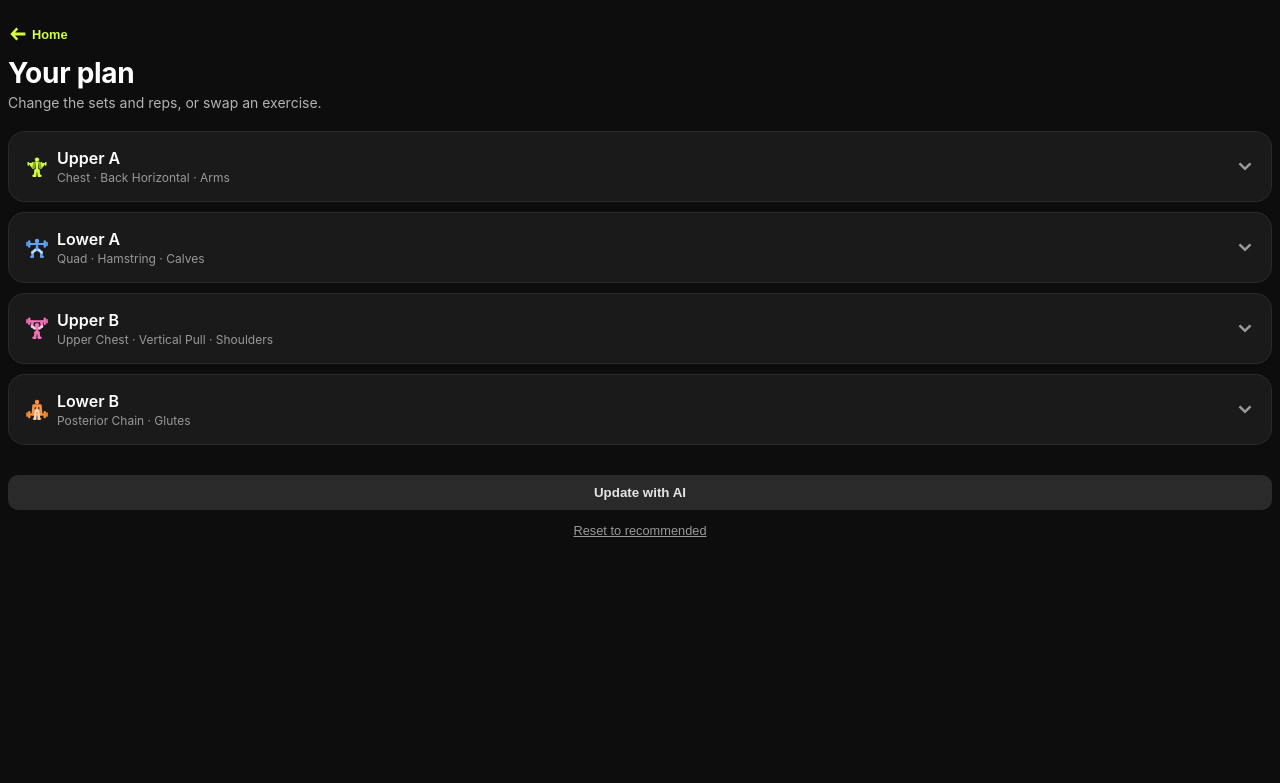
Plan editing › shows the finish-first message for a 409 and re-reads the open workout
The width and height of the screenshot is (1280, 783).
Click the button "Upper A Chest · Back Horizontal · Arms" at (89, 158), box left=9, top=132, right=1271, bottom=201
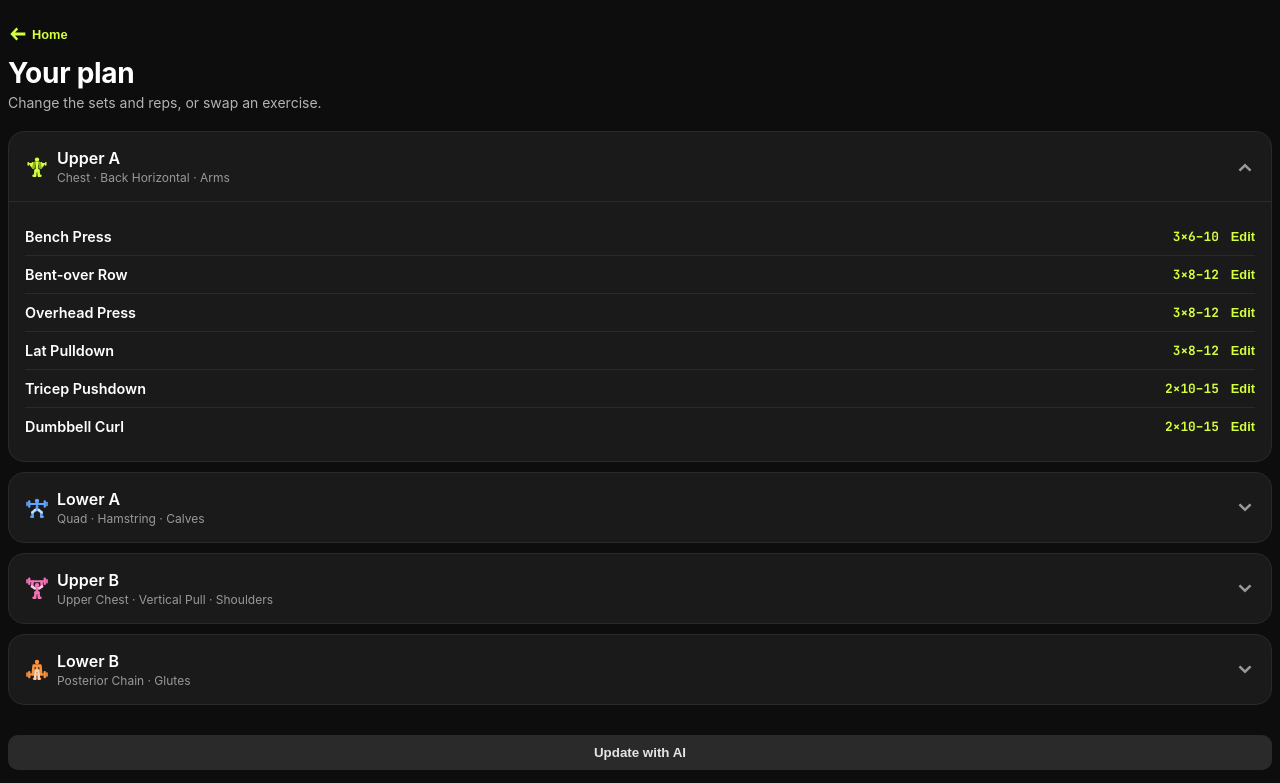
Click the button "Edit" in the row of "Bench Press" at (1243, 236), box left=1231, top=229, right=1255, bottom=244
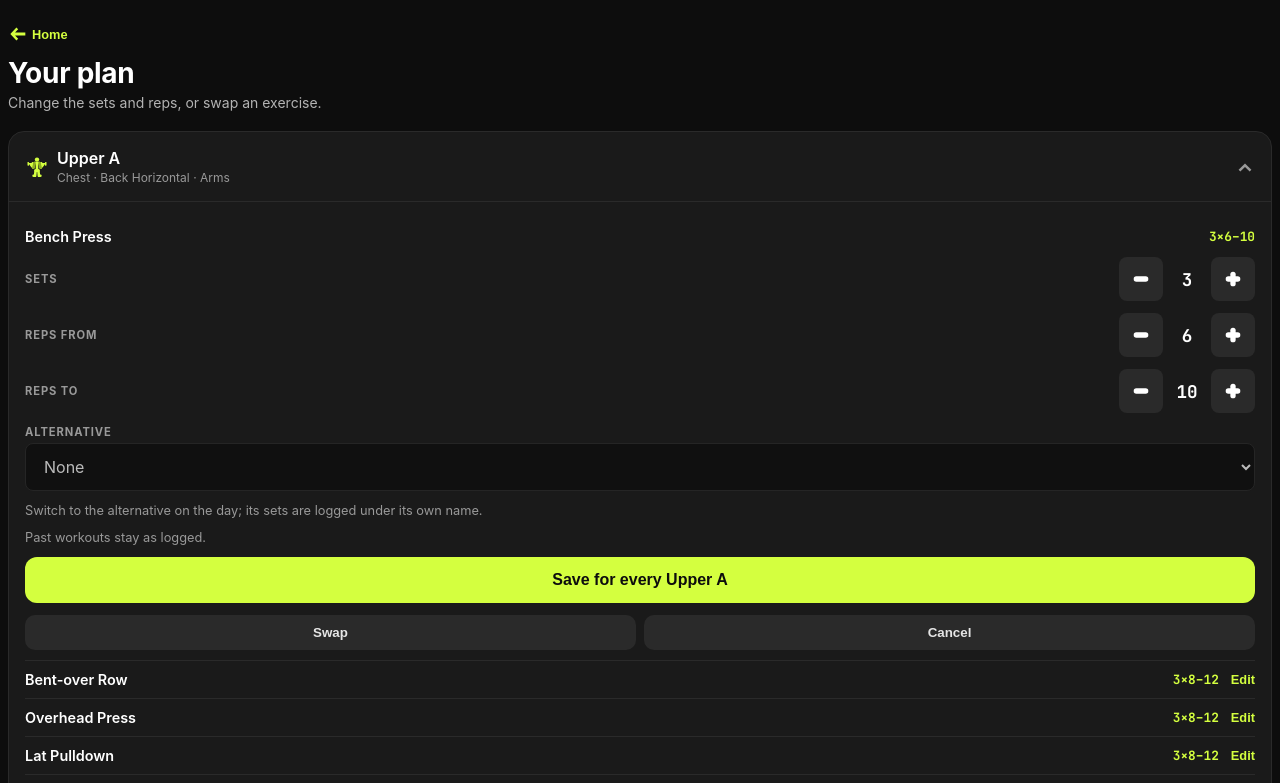
Click the button named "increase Sets" at (1233, 279), box left=1211, top=257, right=1255, bottom=301
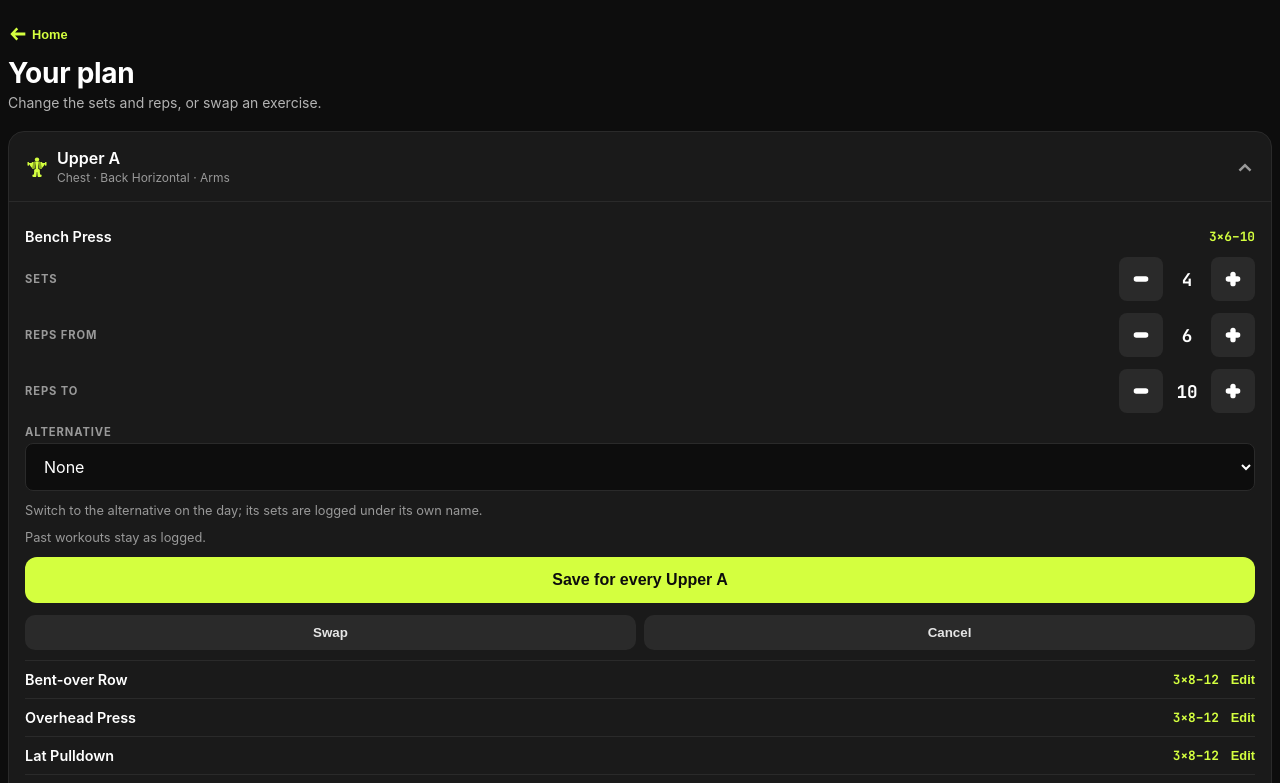
Click the button "Save for every Upper A" at (640, 580), box left=25, top=557, right=1255, bottom=603
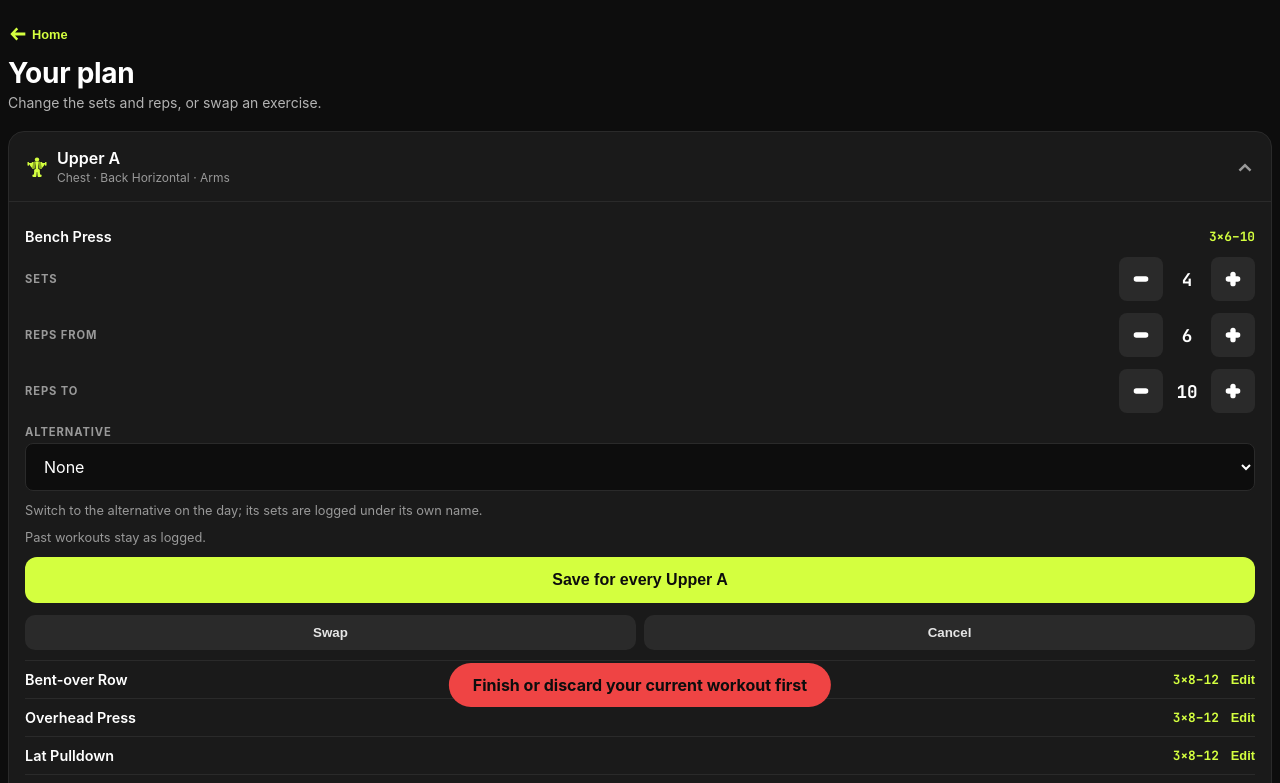
Result: the message reads "Finish or discard your current workout first" at left=473, top=675, right=807, bottom=695
